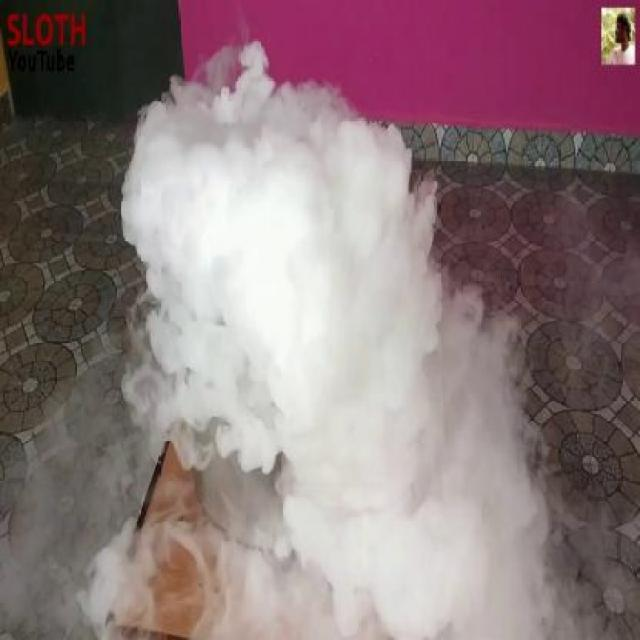smoke: (123, 56, 519, 627)
